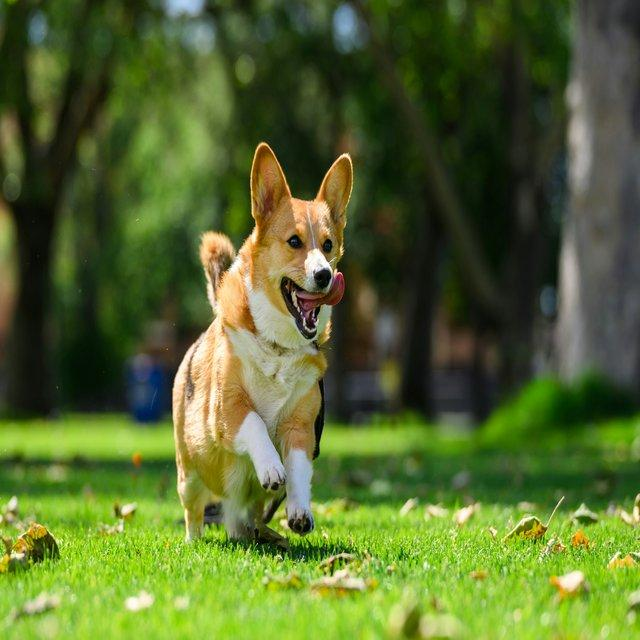corgi: (170, 140, 353, 549)
